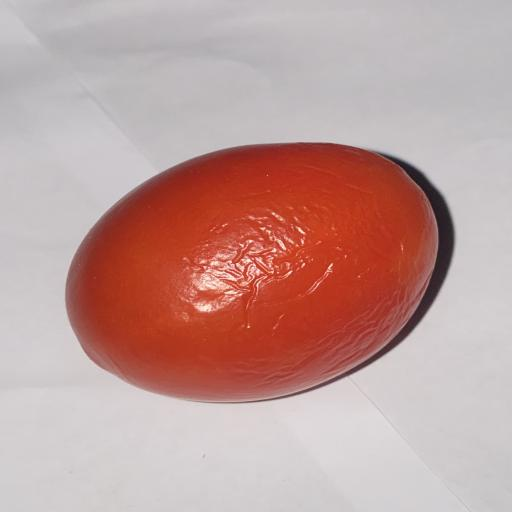spoiled: (66, 143, 437, 401)
